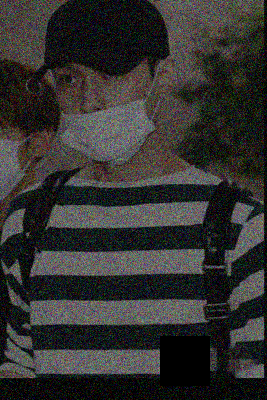mask_weared_incorrect: (54, 64, 159, 162)
